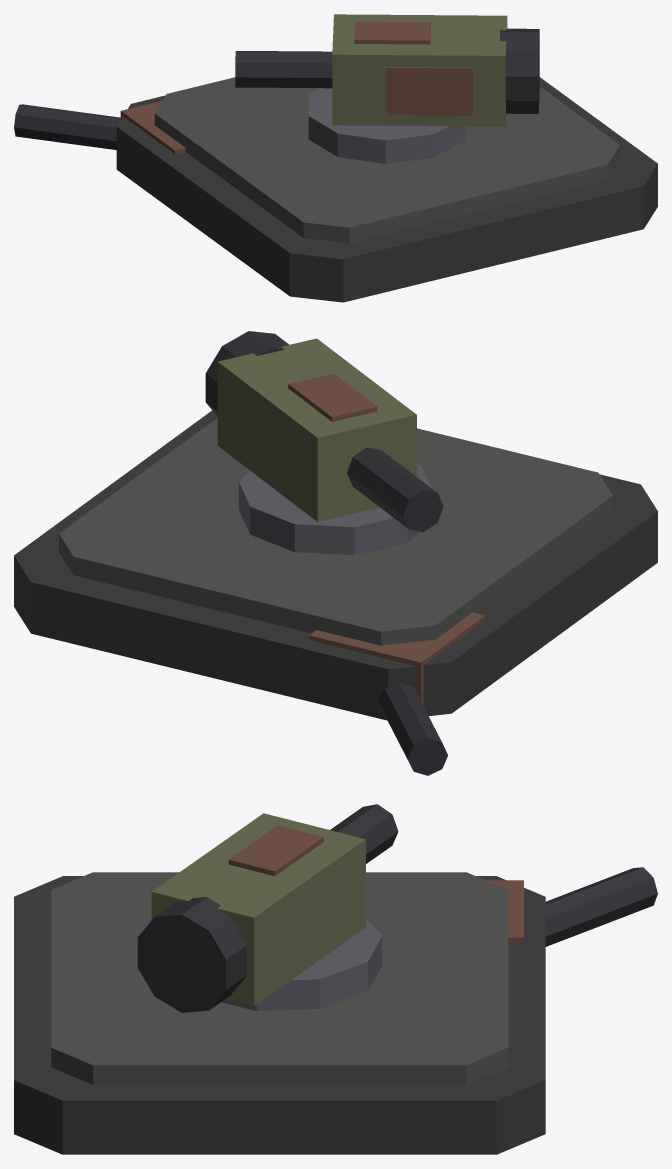
Rendered from ancient_uranium_slug_turret_2.obj.
The picture shows the model from 3 angles, top to bottom: view 1: azimuth 30°, elevation 25°; view 2: azimuth 150°, elevation 25°; view 3: azimuth 270°, elevation 25°; orthographic projection. The views are drawn at different scales.
Parts seen in each view (by area): view 1: ancient_uranium_slug_turret_2; view 2: ancient_uranium_slug_turret_2; view 3: ancient_uranium_slug_turret_2.
Part boxes in pixels (box(x1,y1,x2,y2)): ancient_uranium_slug_turret_2: box(14, 14, 657, 302); ancient_uranium_slug_turret_2: box(14, 331, 657, 775); ancient_uranium_slug_turret_2: box(14, 804, 657, 1154).
Size of the model in its own units: 2.23 by 0.8 by 2.37.
